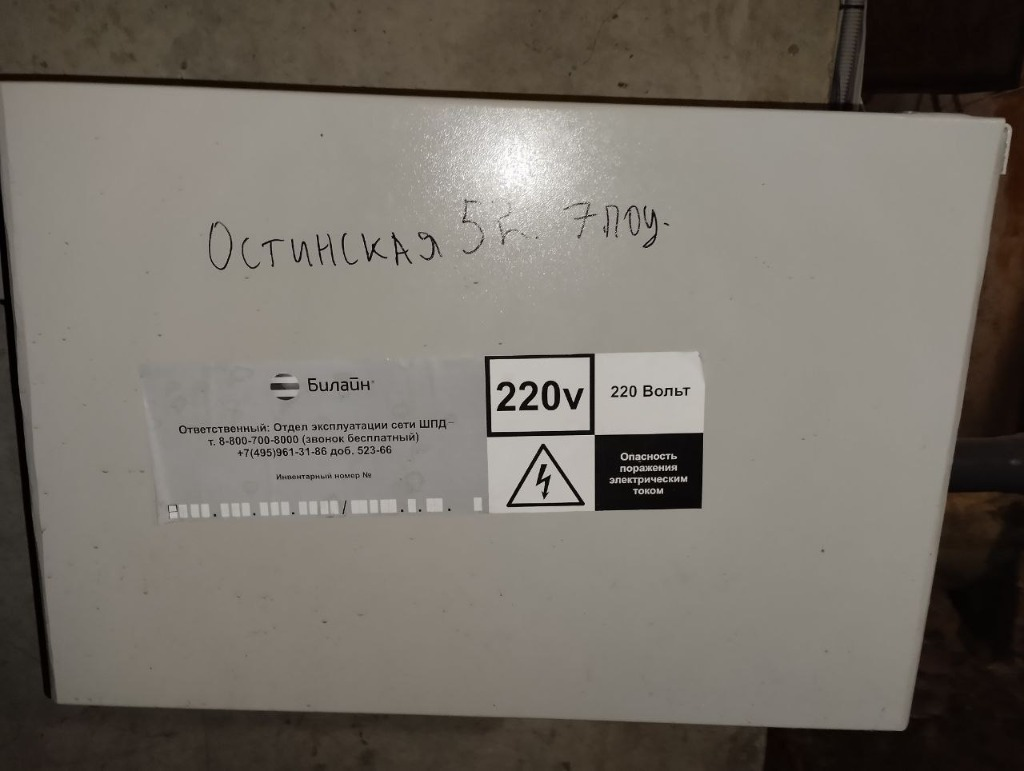sv-5: (4, 78, 1012, 738)
